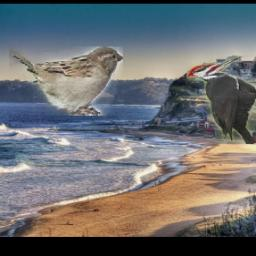Sparrow: (9, 46, 123, 116)
Woodpecker: (188, 56, 256, 145)
